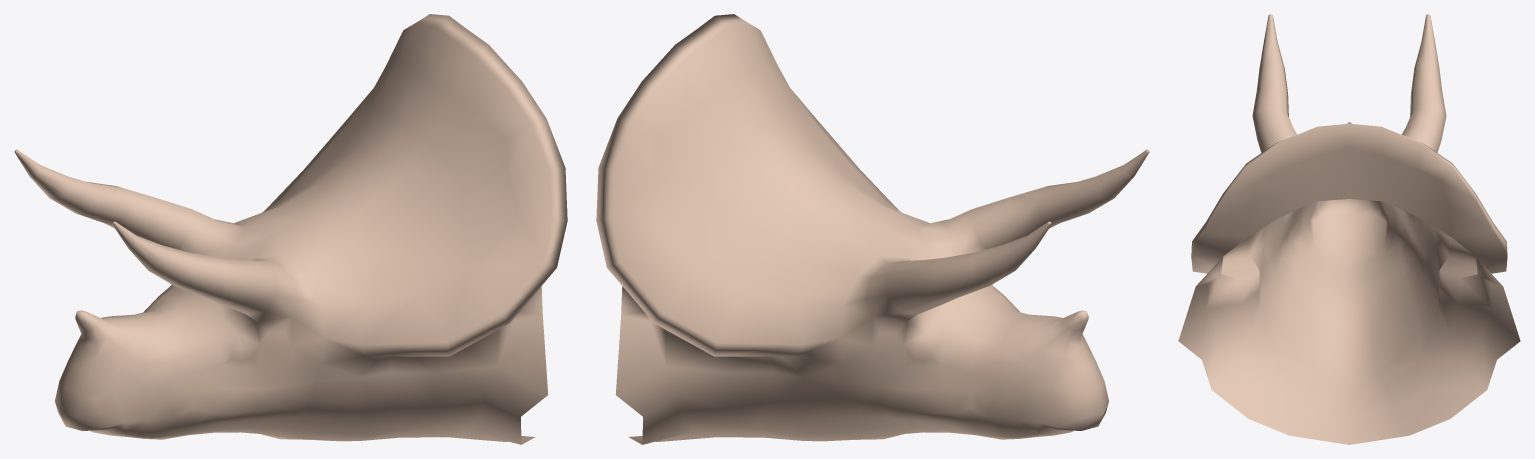
The model's file is creature1.fbx.
The picture shows the model from 3 angles, left to right: view 1: azimuth 30°, elevation 25°; view 2: azimuth 150°, elevation 25°; view 3: azimuth 270°, elevation 25°; orthographic projection. The views are drawn at different scales.
Visible parts, largest first — view 1: Ceratopsia_Ceratopsia; view 2: Ceratopsia_Ceratopsia; view 3: Ceratopsia_Ceratopsia.
Boxes of the visible parts, x1,y1,x2,y2 form: Ceratopsia_Ceratopsia: [14, 14, 567, 444]; Ceratopsia_Ceratopsia: [596, 14, 1149, 444]; Ceratopsia_Ceratopsia: [1178, 14, 1520, 444].
Size of the model in its own units: 56.33 by 50.52 by 48.74.
